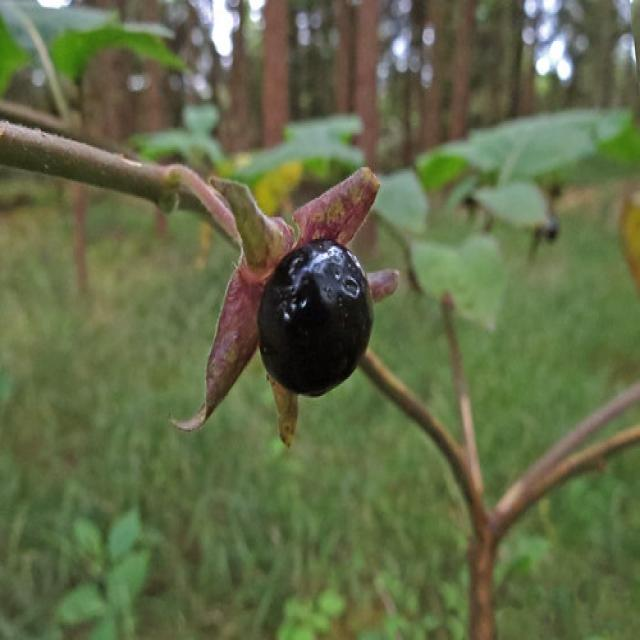Poisonous-Deadly_Nightshade: (166, 156, 420, 453)
